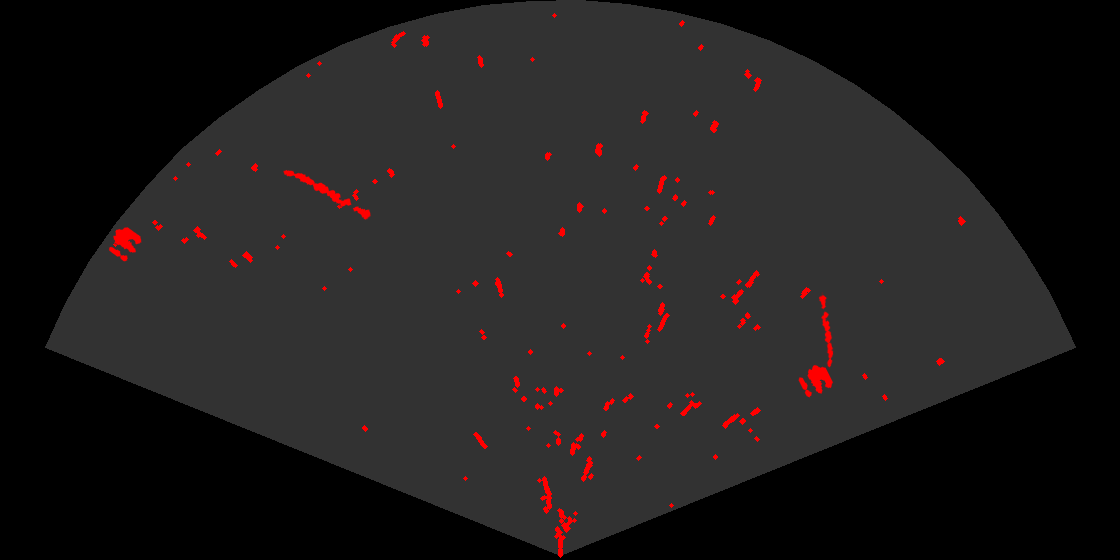ball: (797, 363, 835, 399), (107, 226, 143, 263)
chain: (282, 168, 372, 221), (817, 292, 835, 369)
